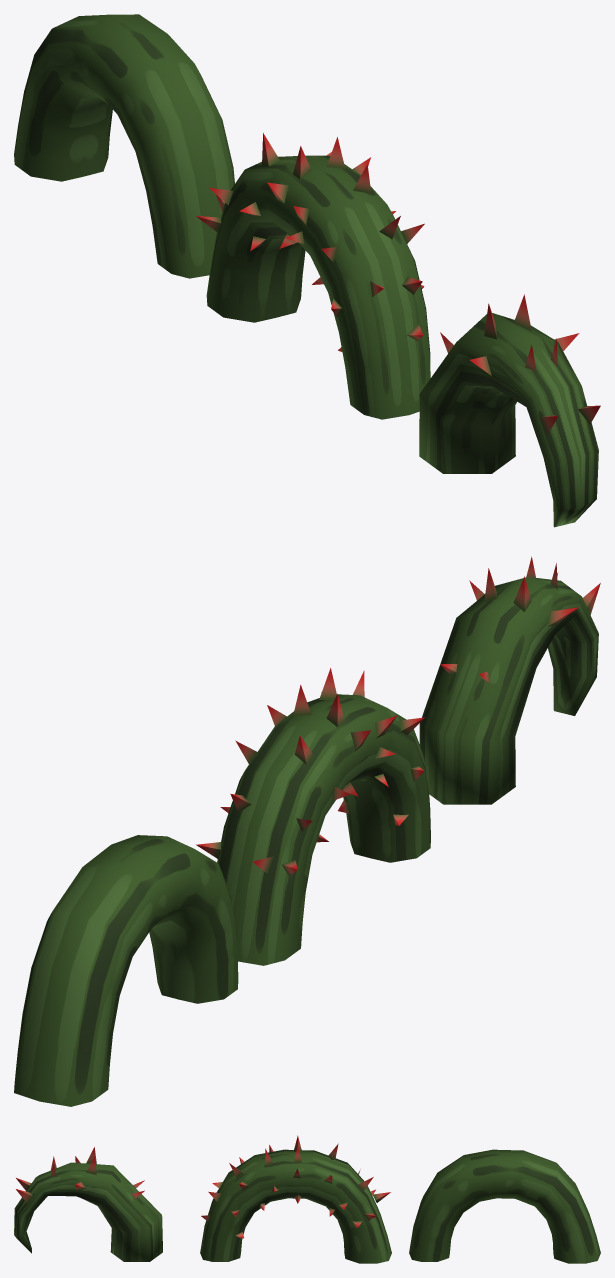
Rendered from Vines_walkable.fbx.
3 renders of one model, top to bottom at view 1: azimuth 30°, elevation 25°; view 2: azimuth 150°, elevation 25°; view 3: azimuth 270°, elevation 25°, orthographic. The views are drawn at different scales.
Visible parts, largest first — view 1: Vine_U, Vine_Walkable, Vine_End; view 2: Vine_Walkable, Vine_U, Vine_End; view 3: Vine_U, Vine_Walkable, Vine_End.
Part boxes in pixels (x1,y1,x2,y2): Vine_U: (196,133,430,419); Vine_Walkable: (14,14,234,278); Vine_End: (419,294,600,527); Vine_Walkable: (14,835,238,1106); Vine_U: (196,668,430,965); Vine_End: (419,556,600,804); Vine_U: (200,1135,391,1263); Vine_Walkable: (409,1149,600,1263); Vine_End: (14,1147,162,1261).
Bounding box in the file's own units: 2.67 × 4.77 × 22.41.
